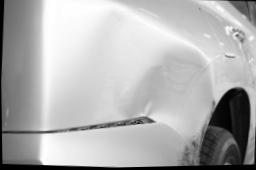Bumper: (1, 115, 205, 170)
Fender: (0, 6, 229, 134)
